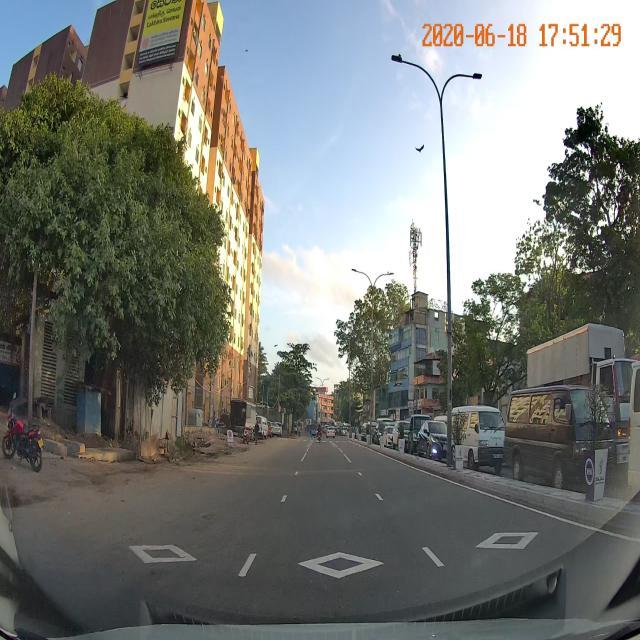diamond: (222, 528, 468, 593)
